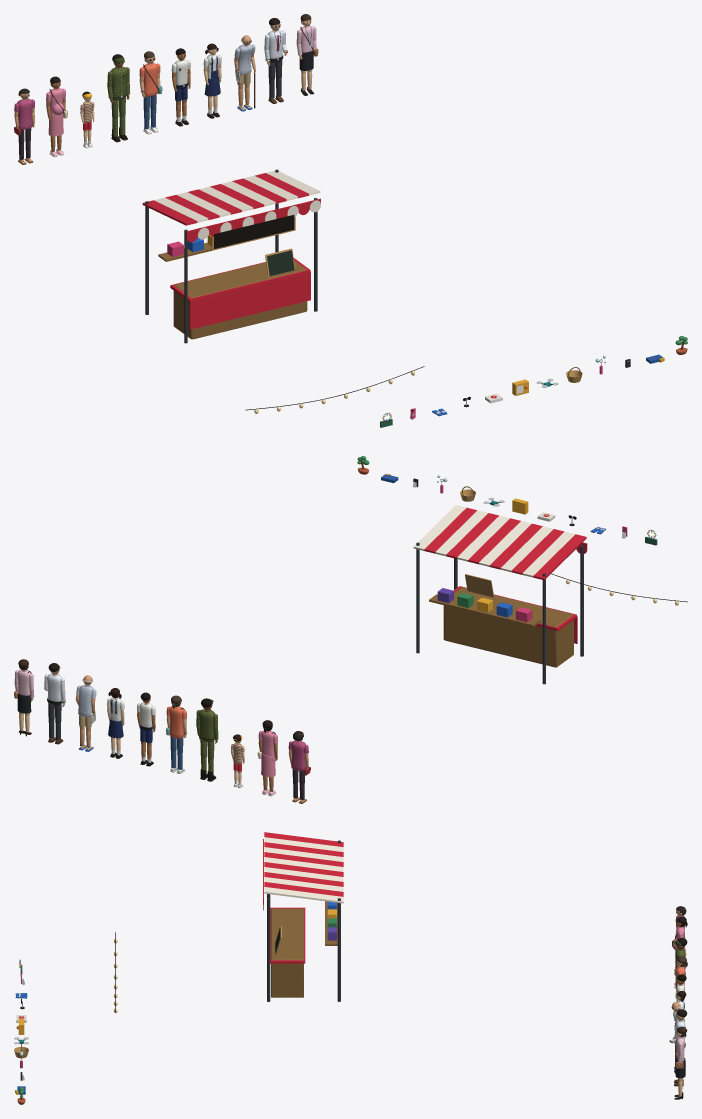
Rendered from pasar-assets.glb.
3 views of the same model, one above another, from view 1: azimuth 30°, elevation 25°; view 2: azimuth 150°, elevation 25°; view 3: azimuth 270°, elevation 25° (orthographic). The views are drawn at different scales.
Parts seen in each view (by area): view 1: Counter, ClothFront, Char_ns_Stand_Mesh, Char_worker_a_Stand_Mesh, Char_parent_Stand_Mesh, StallSign, Char_expecting_Stand_Mesh, Char_uncle_Stand_Mesh, Char_worker_b_Stand_Mesh, Char_aunty_Stand_Mesh, Char_student_a_Stand_Mesh, Char_student_b_Stand_Mesh (+1 smaller); view 2: Counter, Char_ns_Stand_Mesh, Char_worker_a_Stand_Mesh, Char_parent_Stand_Mesh, Char_expecting_Stand_Mesh, Char_uncle_Stand_Mesh, Char_worker_b_Stand_Mesh, Char_aunty_Stand_Mesh, Char_student_a_Stand_Mesh, Char_student_b_Stand_Mesh, CanopyC, CanopyC.002 (+12 smaller); view 3: Counter, Char_worker_b_Stand_Mesh, CanopyW.005, CanopyC.004, CanopyW, CanopyW.001, CanopyC.001, CanopyC.002, CanopyC.003, CanopyC.005, CanopyW.002, CanopyW.003 (+2 smaller).
Part boxes in pixels (left/top/right/bottom): Counter: left=173, top=260, right=307, bottom=339; ClothFront: left=189, top=272, right=310, bottom=329; Char_ns_Stand_Mesh: left=107, top=54, right=130, bottom=142; Char_worker_a_Stand_Mesh: left=264, top=18, right=287, bottom=103; Char_parent_Stand_Mesh: left=139, top=51, right=162, bottom=134; StallSign: left=214, top=215, right=294, bottom=248; Char_expecting_Stand_Mesh: left=46, top=76, right=67, bottom=157; Char_uncle_Stand_Mesh: left=234, top=35, right=255, bottom=111; Char_worker_b_Stand_Mesh: left=296, top=14, right=318, bottom=95; Char_aunty_Stand_Mesh: left=14, top=88, right=34, bottom=164; Char_student_a_Stand_Mesh: left=171, top=48, right=190, bottom=126; Char_student_b_Stand_Mesh: left=203, top=43, right=221, bottom=118; Counter: left=443, top=587, right=573, bottom=667; Char_ns_Stand_Mesh: left=196, top=698, right=218, bottom=781; Char_worker_a_Stand_Mesh: left=44, top=663, right=65, bottom=744; Char_parent_Stand_Mesh: left=166, top=695, right=187, bottom=773; Char_expecting_Stand_Mesh: left=257, top=720, right=277, bottom=796; Char_uncle_Stand_Mesh: left=75, top=675, right=96, bottom=751; Char_worker_b_Stand_Mesh: left=14, top=659, right=34, bottom=736; Char_aunty_Stand_Mesh: left=288, top=731, right=310, bottom=803; Char_student_a_Stand_Mesh: left=137, top=692, right=155, bottom=766; Char_student_b_Stand_Mesh: left=107, top=688, right=124, bottom=758; CanopyC: left=533, top=534, right=586, bottom=580; CanopyC.002: left=489, top=523, right=542, bottom=569; Counter: left=271, top=908, right=303, bottom=997; Char_worker_b_Stand_Mesh: left=674, top=1026, right=687, bottom=1099; CanopyW.005: left=264, top=887, right=343, bottom=903; CanopyC.004: left=264, top=872, right=343, bottom=886; CanopyW: left=264, top=837, right=343, bottom=851; CanopyW.001: left=264, top=847, right=343, bottom=861; CanopyC.001: left=264, top=842, right=343, bottom=856; CanopyC.002: left=264, top=852, right=343, bottom=866; CanopyC.003: left=264, top=862, right=343, bottom=876; CanopyC.005: left=264, top=882, right=343, bottom=896; CanopyW.002: left=264, top=857, right=343, bottom=871; CanopyW.003: left=264, top=867, right=343, bottom=881.
Size of the model in its own units: 8.74 by 2.87 by 14.32.
143 materials, 9 textured.
